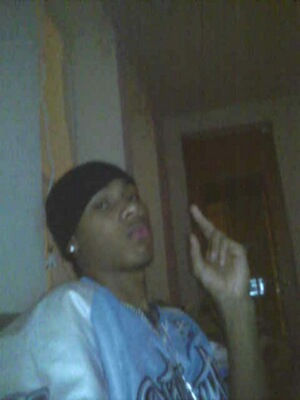person: (1, 162, 266, 400)
